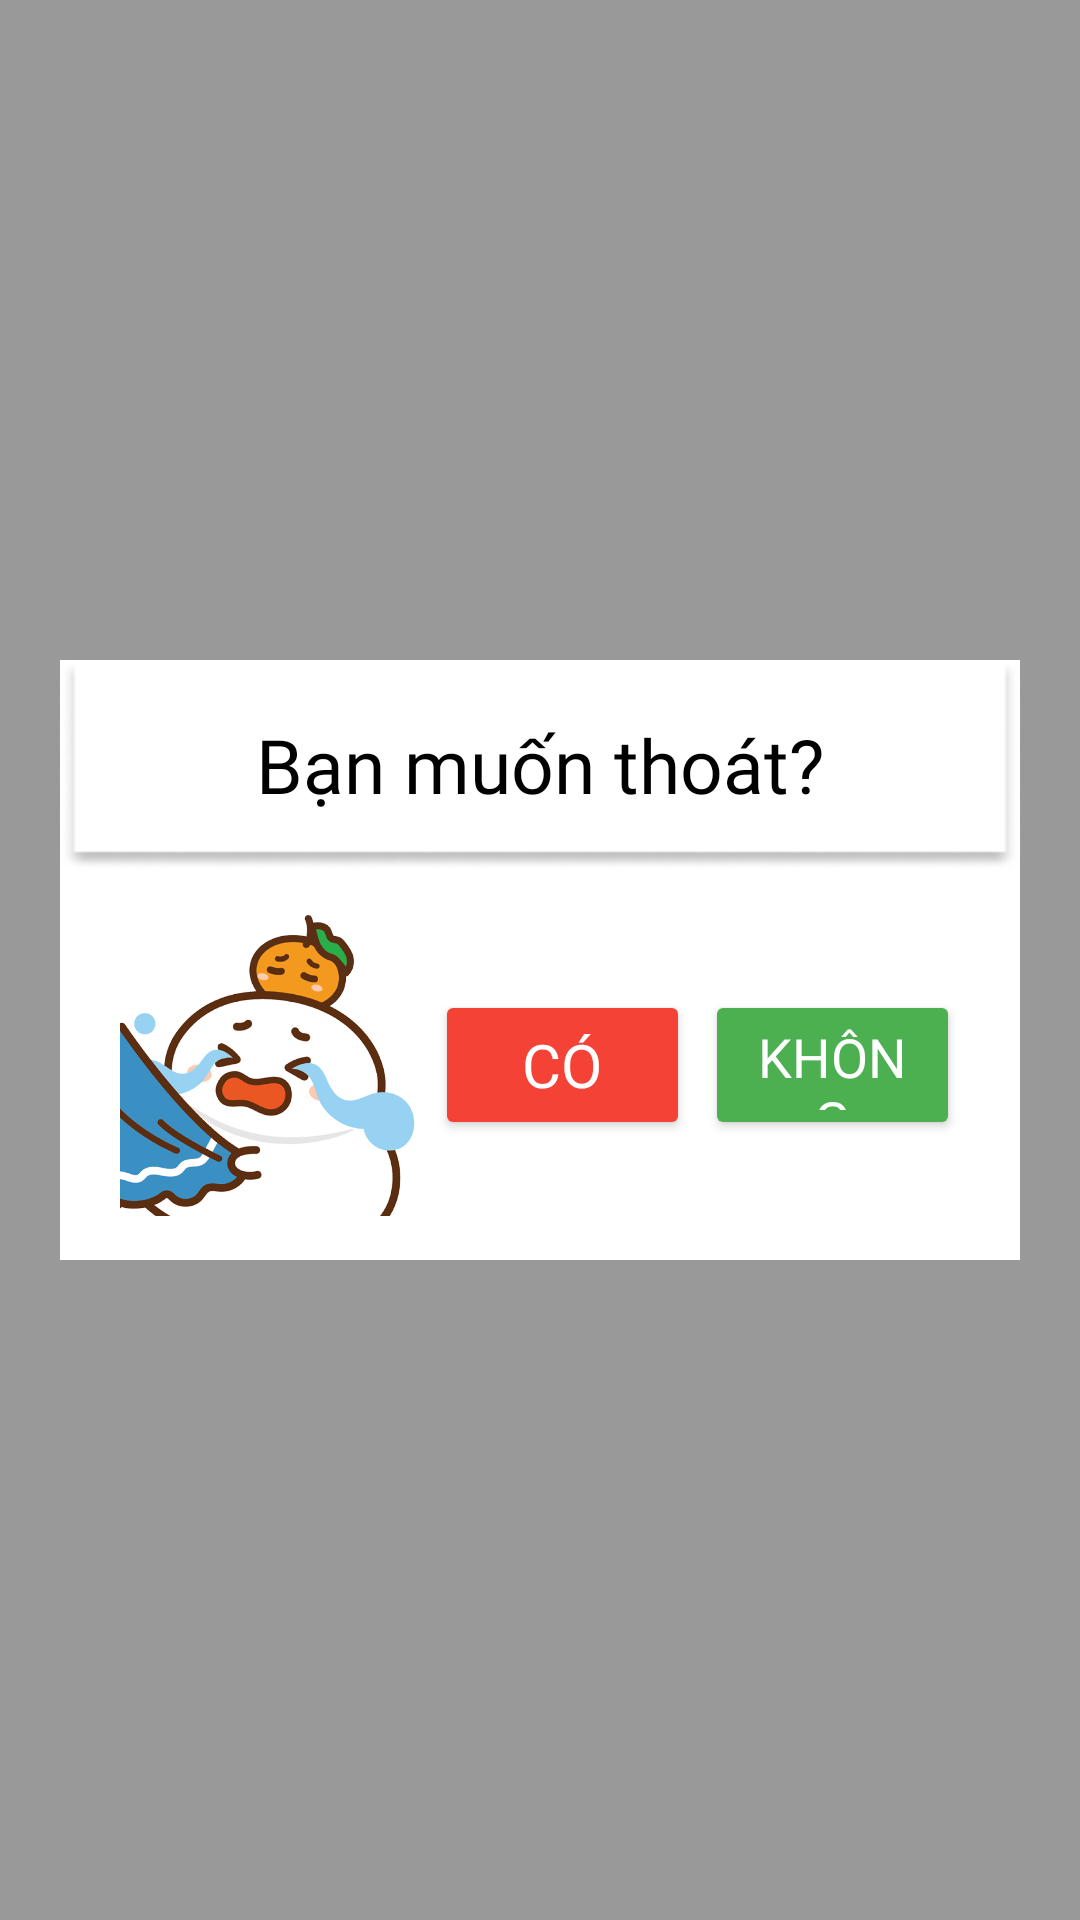

Where to tap for icons on this 1080x1920 app screen, as [x,y]:
cry: [267,1065]
